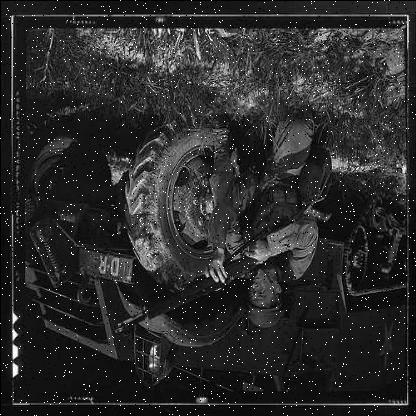rifle: (107, 215, 287, 336)
